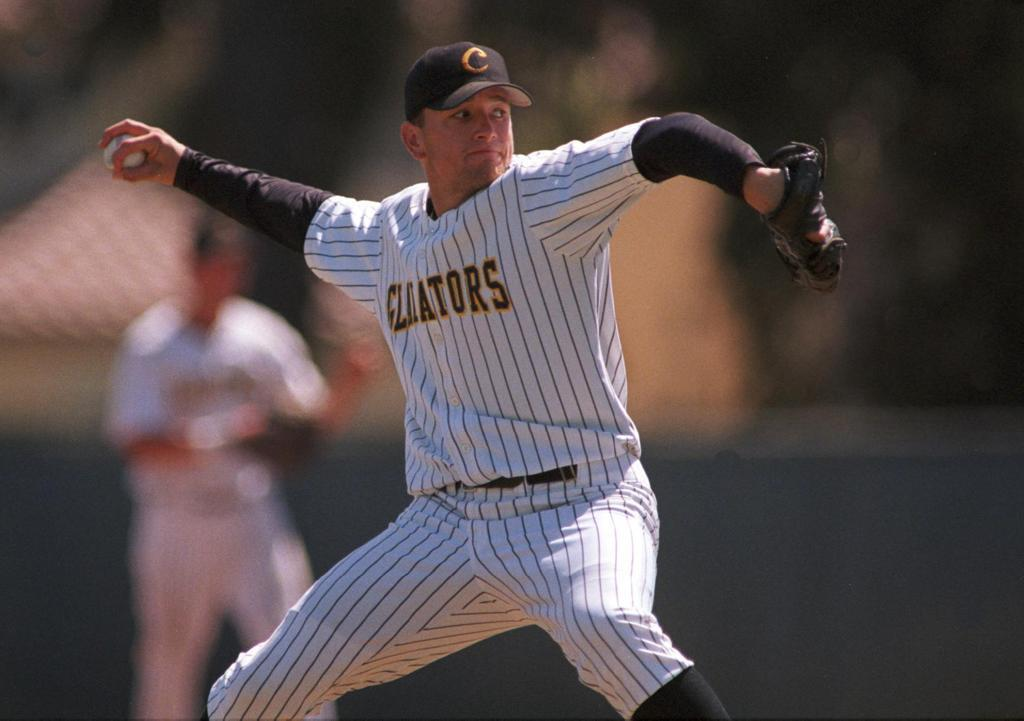face: (421, 83, 515, 181)
